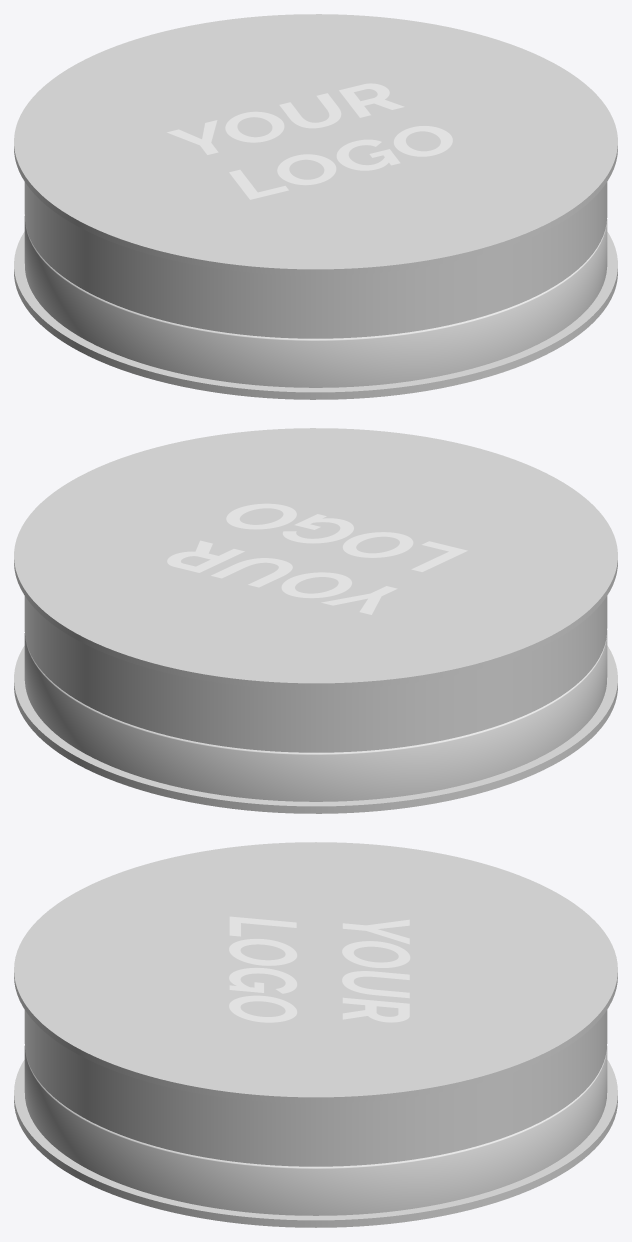
Rendered from Cake eyeliner.gltf.
The picture shows the model from 3 angles, top to bottom: view 1: azimuth 30°, elevation 25°; view 2: azimuth 150°, elevation 25°; view 3: azimuth 270°, elevation 25°; orthographic projection.
Parts seen in each view (by area): view 1: Cylinder.016, Cylinder.015, CREAM PUFF-01-01.003; view 2: Cylinder.016, Cylinder.015, CREAM PUFF-01-01.003; view 3: Cylinder.016, Cylinder.015, CREAM PUFF-01-01.003.
Part boxes in pixels (<box>): Cylinder.016: <box>14,14,617,338</box>; Cylinder.015: <box>14,216,617,399</box>; CREAM PUFF-01-01.003: <box>167,83,452,199</box>; Cylinder.016: <box>14,428,617,752</box>; Cylinder.015: <box>14,630,617,813</box>; CREAM PUFF-01-01.003: <box>167,503,467,614</box>; Cylinder.016: <box>14,842,617,1166</box>; Cylinder.015: <box>14,1046,617,1227</box>; CREAM PUFF-01-01.003: <box>229,916,410,1022</box>.
Bounding box in the file's own units: 0.8468 × 0.2019 × 0.8468.
Materials: 3 (1 with a texture image).
